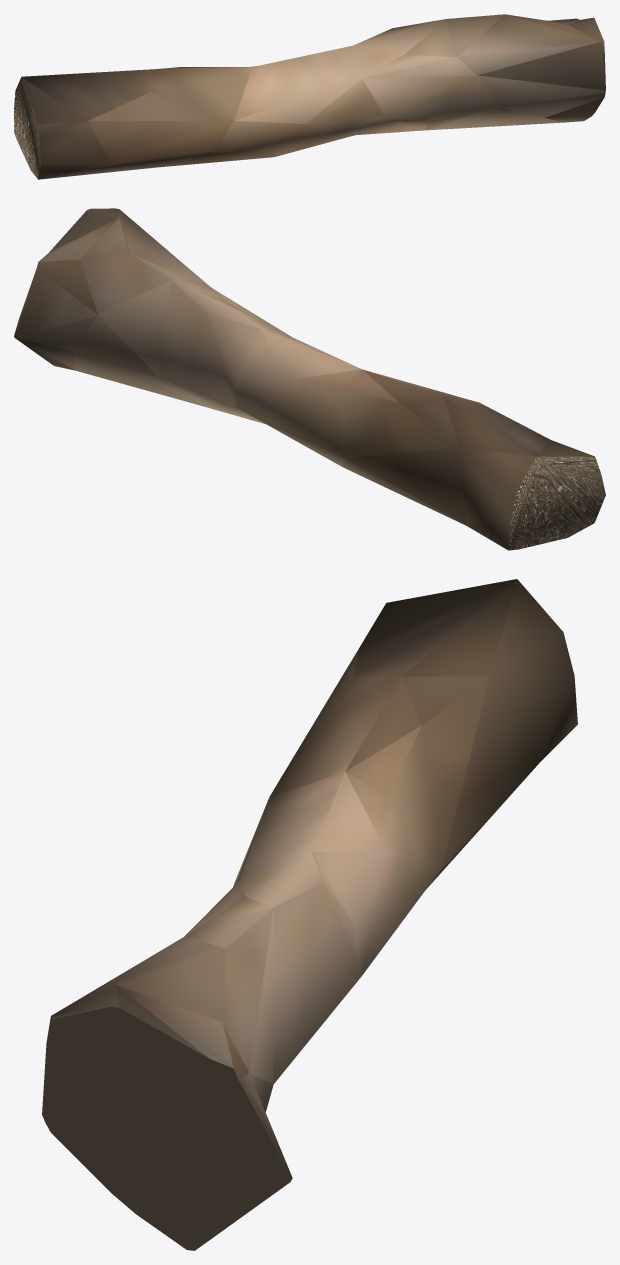
Rendered from Sungaya_inexpectata_31mg.001.obj.
3 renders of one model, top to bottom at view 1: azimuth 30°, elevation 25°; view 2: azimuth 150°, elevation 25°; view 3: azimuth 270°, elevation 25°, orthographic. The views are drawn at different scales.
Visible parts, largest first — view 1: 19-f-l-tarsus_Sungaya_inexpectata_31mg.001; view 2: 19-f-l-tarsus_Sungaya_inexpectata_31mg.001; view 3: 19-f-l-tarsus_Sungaya_inexpectata_31mg.001.
Part boxes in pixels (left/top/right/bottom): 19-f-l-tarsus_Sungaya_inexpectata_31mg.001: left=14, top=14, right=605, bottom=179; 19-f-l-tarsus_Sungaya_inexpectata_31mg.001: left=14, top=208, right=605, bottom=550; 19-f-l-tarsus_Sungaya_inexpectata_31mg.001: left=42, top=579, right=577, bottom=1250.
Size of the model in its own units: 0.00106 by 0.000233 by 0.000481.
Materials: 1 (1 with a texture image).
